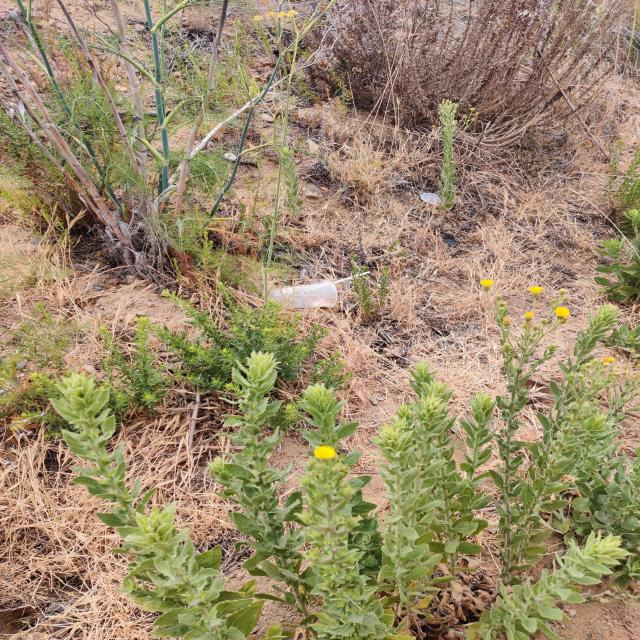litter: (272, 279, 336, 306), (424, 190, 441, 206)
